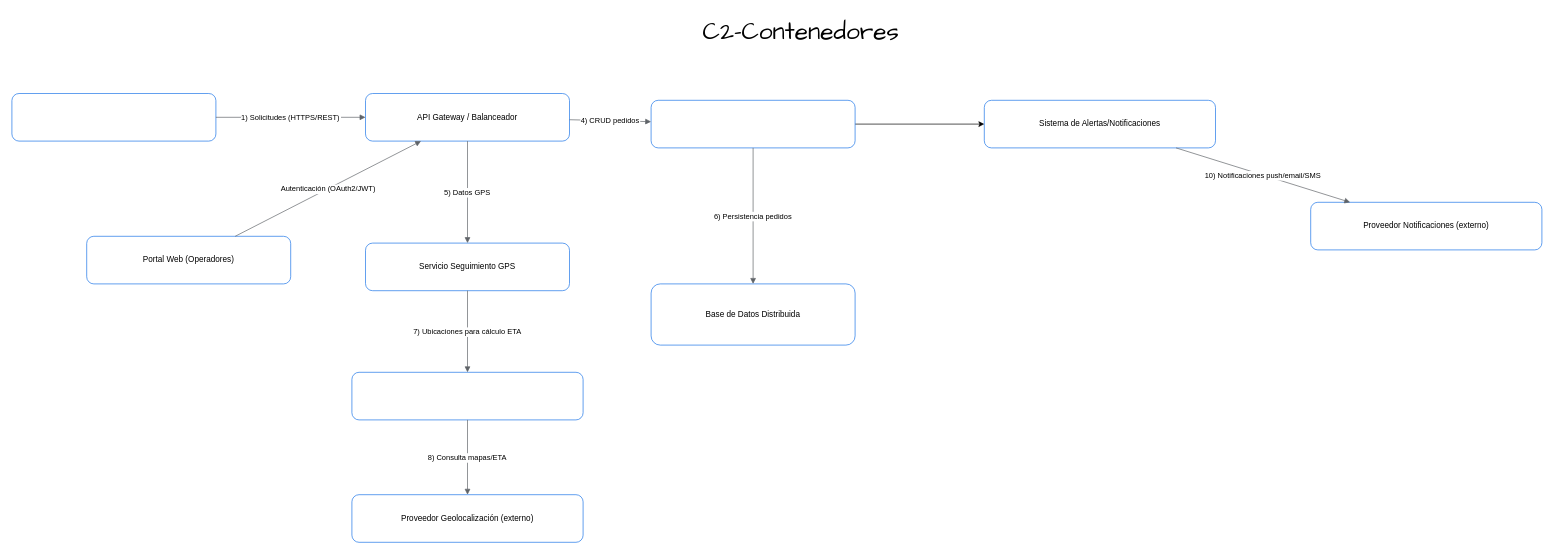
Image size: 1554x554. Some labels were removed from this diagram. The centre of each missing label's shape, as x and y in pixels:
App móvil (Cliente/Mensajero): point (113, 117)
Motor de Rutas (ETA/Optimización): point (467, 396)
Servicio Gestión de Paquetes: point (752, 124)
